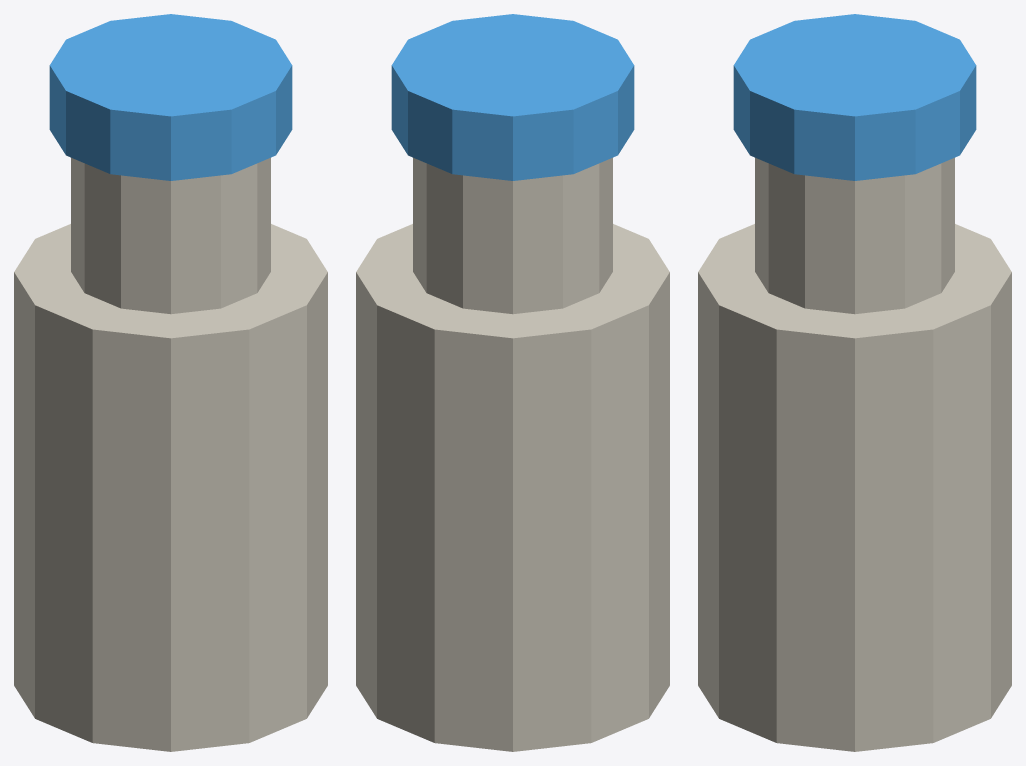
File: milk-bottle.glb
3 views of the same model, side by side, from view 1: azimuth 30°, elevation 25°; view 2: azimuth 150°, elevation 25°; view 3: azimuth 270°, elevation 25° (orthographic).
Visible parts, largest first — view 1: bottle, cap, neck; view 2: bottle, cap, neck; view 3: bottle, cap, neck.
Part boxes in pixels (x1=…): bottle: x1=14, y1=224, x2=327, y2=751; cap: x1=49, y1=14, x2=292, y2=180; neck: x1=71, y1=157, x2=270, y2=314; bottle: x1=356, y1=224, x2=669, y2=751; cap: x1=391, y1=14, x2=634, y2=180; neck: x1=413, y1=157, x2=612, y2=314; bottle: x1=698, y1=224, x2=1011, y2=751; cap: x1=733, y1=14, x2=976, y2=180; neck: x1=755, y1=157, x2=954, y2=314.
Size of the model in its own units: 0.44 by 0.96 by 0.44.
